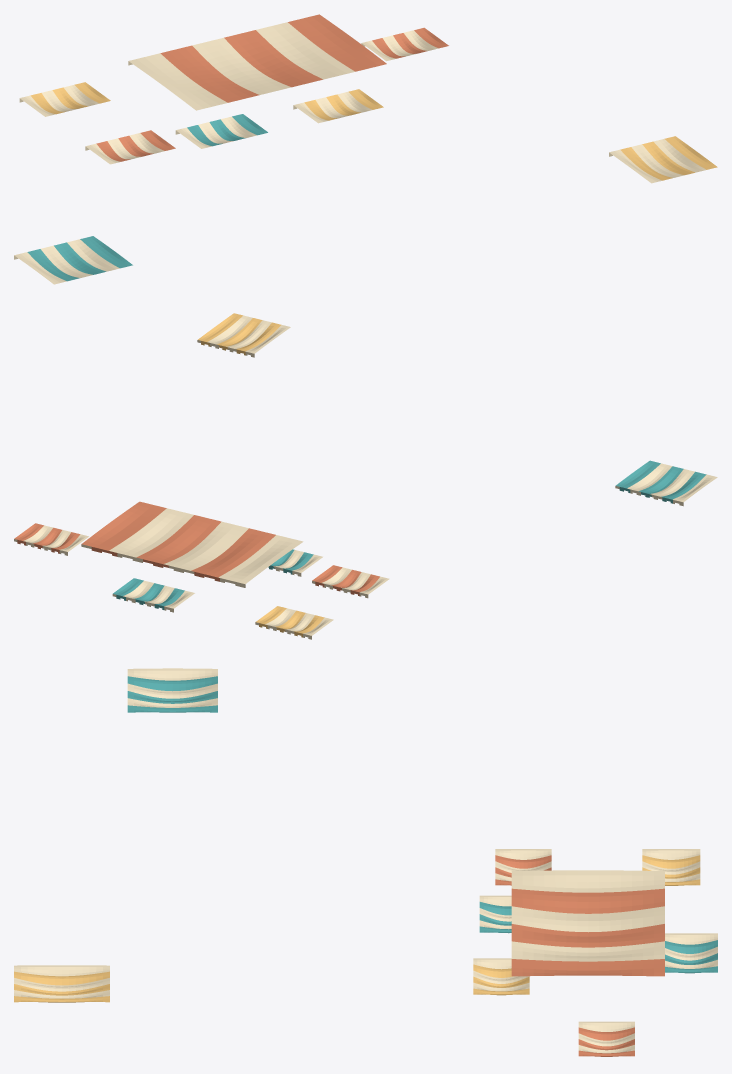
Rendered from SM_ShadeClothCanopies.fbx.
3 views of the same model, one above another, from view 1: azimuth 30°, elevation 25°; view 2: azimuth 150°, elevation 25°; view 3: azimuth 270°, elevation 25° (orthographic). The views are drawn at different scales.
Visible parts, largest first — view 1: SM_ShadeClothCanopies_Export; view 2: SM_ShadeClothCanopies_Export; view 3: SM_ShadeClothCanopies_Export.
Boxes of the visible parts, left/top/right/bottom form: SM_ShadeClothCanopies_Export: left=14, top=14, right=717, bottom=284; SM_ShadeClothCanopies_Export: left=14, top=313, right=717, bottom=639; SM_ShadeClothCanopies_Export: left=14, top=668, right=717, bottom=1056.
Bounding box in the file's own units: 4335 × 3812 × 438.
